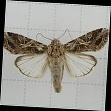Spodoptera litura: (2, 25, 108, 93)
